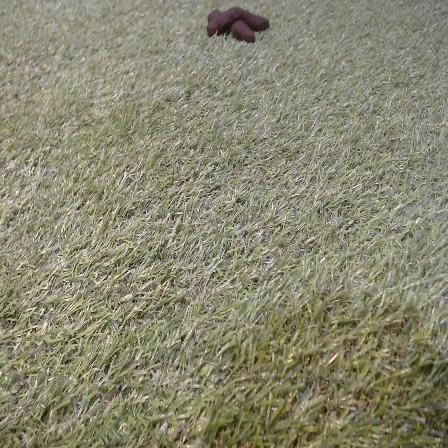dog-poop: (204, 5, 272, 44)
